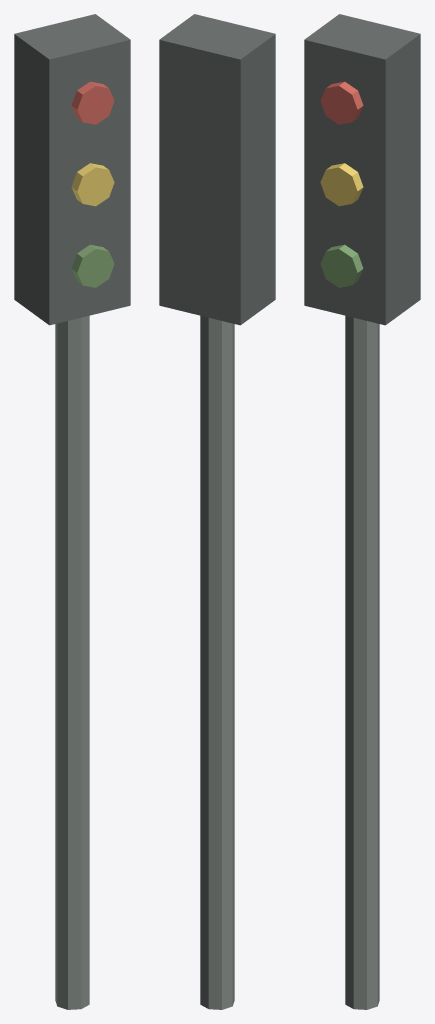
File: traffic-signals-lod0.glb
3 views of the same model, side by side, from view 1: azimuth 30°, elevation 25°; view 2: azimuth 150°, elevation 25°; view 3: azimuth 330°, elevation 25° (orthographic).
Visible parts, largest first — view 1: signal_box, post, lamp_0, lamp_1, lamp_2; view 2: signal_box, post; view 3: signal_box, post, lamp_0, lamp_1, lamp_2.
Boxes of the visible parts, x1,y1,x2,y2 form: signal_box: [14, 14, 130, 325]; post: [55, 315, 89, 1009]; lamp_0: [71, 81, 114, 124]; lamp_1: [71, 163, 114, 206]; lamp_2: [71, 244, 114, 287]; signal_box: [159, 14, 275, 325]; post: [200, 315, 234, 1009]; signal_box: [304, 14, 420, 325]; post: [345, 315, 379, 1009]; lamp_0: [320, 81, 363, 124]; lamp_1: [320, 163, 363, 206]; lamp_2: [320, 244, 363, 287].
Bounding box in the file's own units: 0.24 × 2.72 × 0.21.
